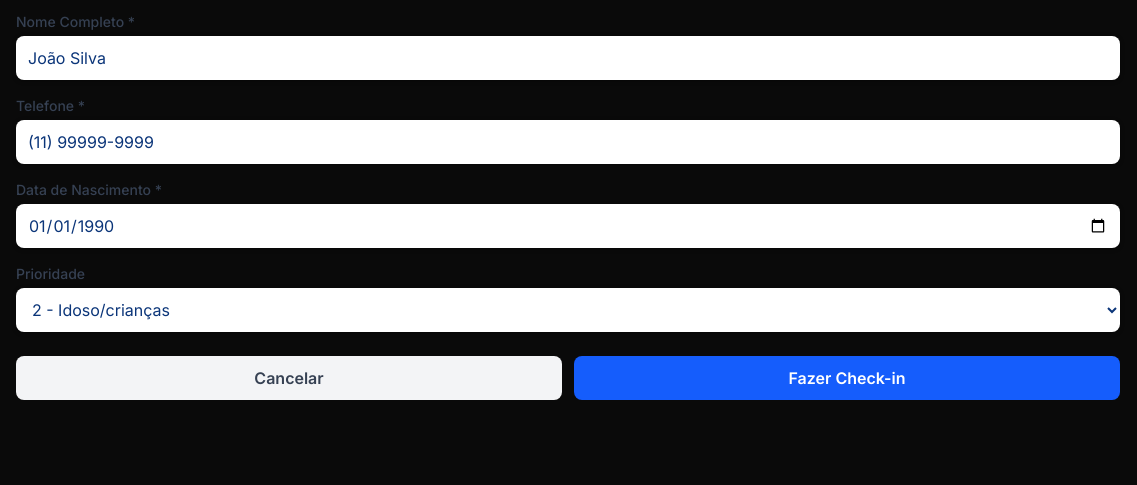
Test: NewPatientCheckInForm › validates birth date is required
# Clear birth date field
Clear the date field showing "1990-01-01" at (568, 226), box [16, 204, 1120, 248]
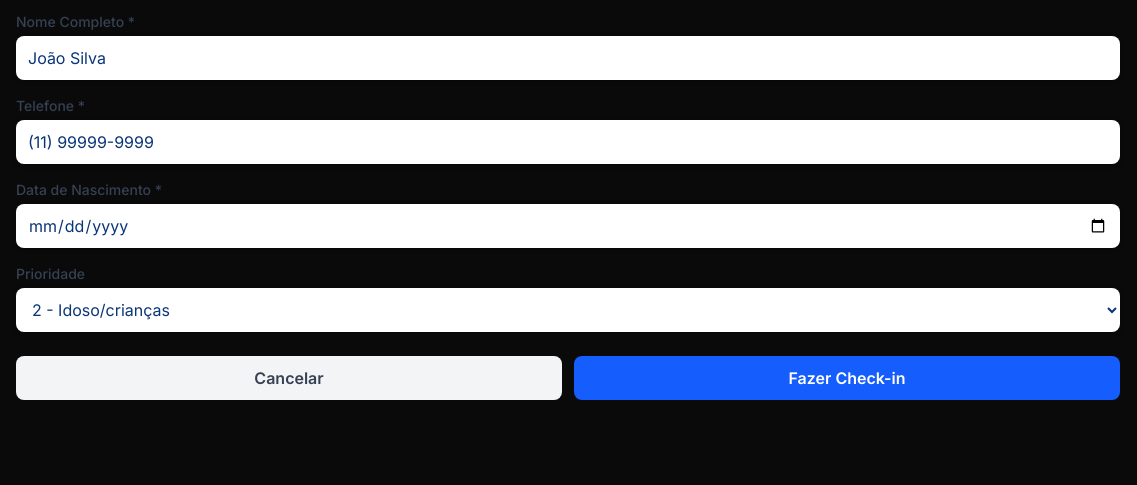
# Try to submit
Click the button "Fazer Check-in" at (847, 378), box [574, 356, 1120, 400]
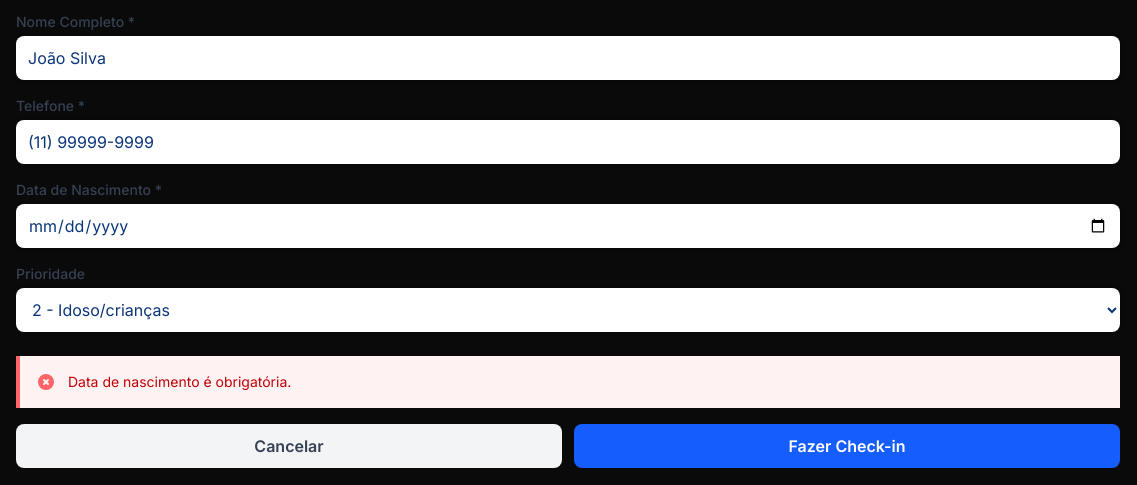
Expected: the text "Data de nascimento é obrigatória." is shown, [68, 373, 291, 390]
